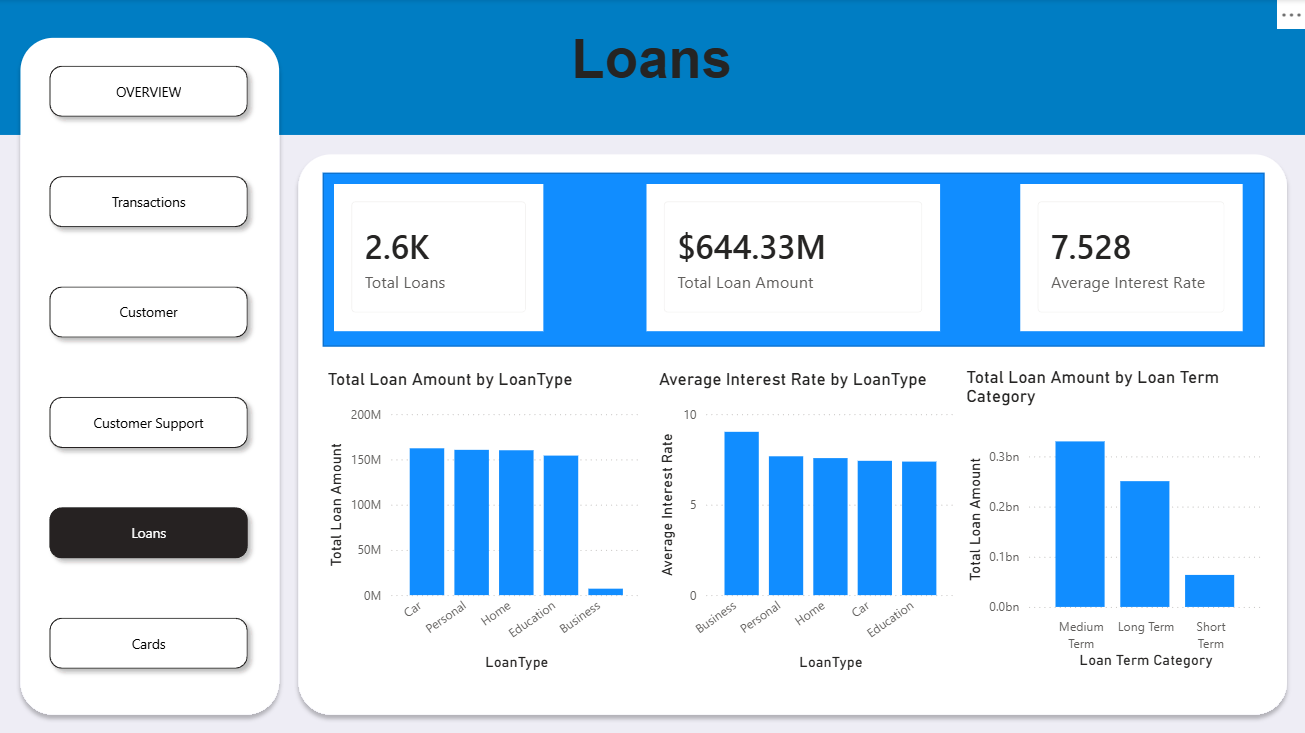

The dashboard page shown, as its layout file describes it:
{"tool":"powerbi","page":{"name":"Loans","canvas":[1280,720],"ordinal":4},"visuals":[{"type":"image","box":[0,0,1280.3,720.2],"z":0},{"type":"pageNavigator","box":[40.4,56.3,212.8,611.4],"z":1000},{"type":"textbox","box":[555.2,23.2,172.4,81.9],"z":2000},{"type":"shape","box":[316.2,170,921.2,170],"z":3000},{"type":"cardVisual","fields":{"Data":["Loans.Total Loans"]},"box":[327.5,181.2,205,143.8],"z":4000},{"type":"cardVisual","fields":{"Data":["Loans.Total Loan Amount"]},"box":[633.8,181.2,287.5,143.8],"z":5000},{"type":"cardVisual","fields":{"Data":["Loans.Average Interest Rate"]},"box":[998.8,181.2,217.5,143.8],"z":6000},{"type":"clusteredColumnChart","fields":{"Category":["Loans.LoanType"],"Y":["Loans.Total Loan Amount"]},"box":[316.2,362.5,317.5,300],"z":7000},{"type":"columnChart","fields":{"Category":["Loans.LoanType"],"Y":["Loans.Average Interest Rate"]},"box":[641.2,362.5,300,300],"z":8000},{"type":"columnChart","fields":{"Category":["Loans.Loan Term Category"],"Y":["Loans.Total Loan Amount"]},"box":[941.2,360,300,300],"z":9000}]}

Visuals, with their boxes in screenshot pixels (x1, y1, x2, y2), scaled from the page's 1280x720 canvas onto the 1305x733 screenshot:
image: BBox(0, 0, 1304, 732)
pageNavigator: BBox(41, 57, 258, 680)
textbox: BBox(566, 24, 742, 107)
shape: BBox(322, 173, 1262, 346)
cardVisual - Loans.Total Loans: BBox(334, 184, 543, 331)
cardVisual - Loans.Total Loan Amount: BBox(646, 184, 939, 331)
cardVisual - Loans.Average Interest Rate: BBox(1018, 184, 1240, 331)
clusteredColumnChart - Loans.LoanType x Loans.Total Loan Amount: BBox(322, 369, 646, 674)
columnChart - Loans.LoanType x Loans.Average Interest Rate: BBox(654, 369, 960, 674)
columnChart - Loans.Loan Term Category x Loans.Total Loan Amount: BBox(960, 366, 1265, 672)
